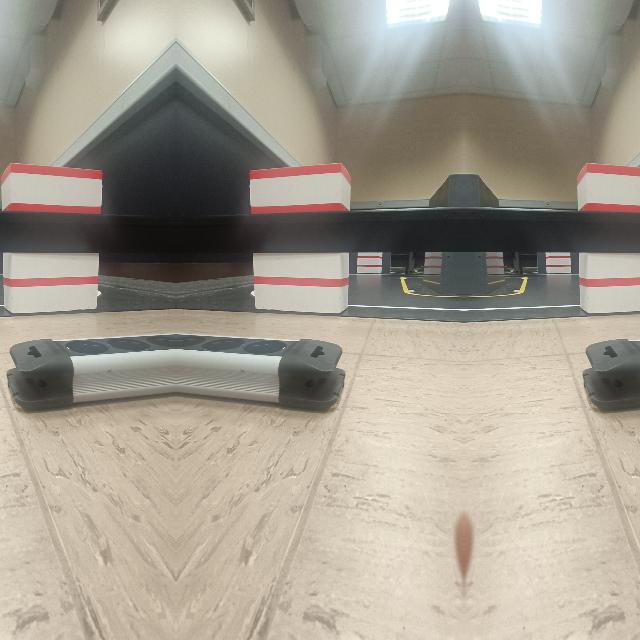obstacle: (177, 332, 347, 410), (3, 332, 173, 410), (580, 332, 640, 410)
